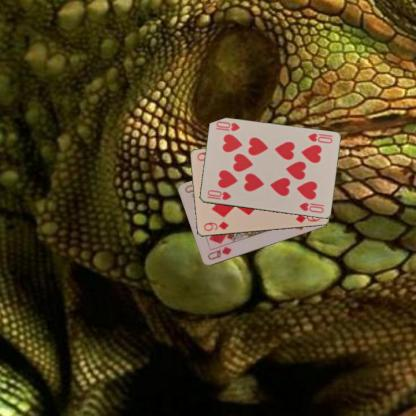10h: (205, 187, 232, 202), (305, 131, 333, 145)
9d: (201, 219, 230, 232)
Qd: (205, 244, 233, 262)
